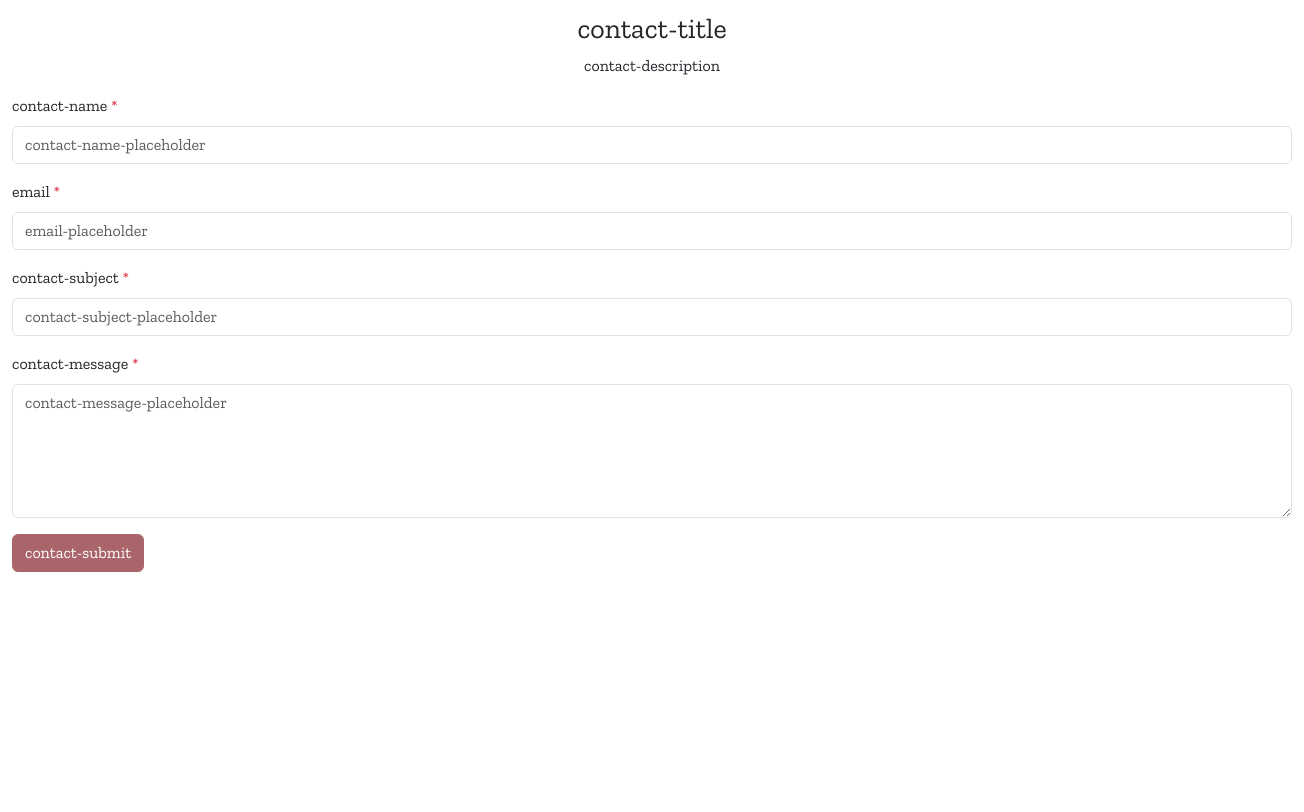
Test case: ContactForm › submits the form when the form is valid
This screenshot has width=1304, height=812.
# Fill the form
Type "John Doe" into the field labelled "contact-name *" at (652, 145), box [12, 126, 1292, 164]
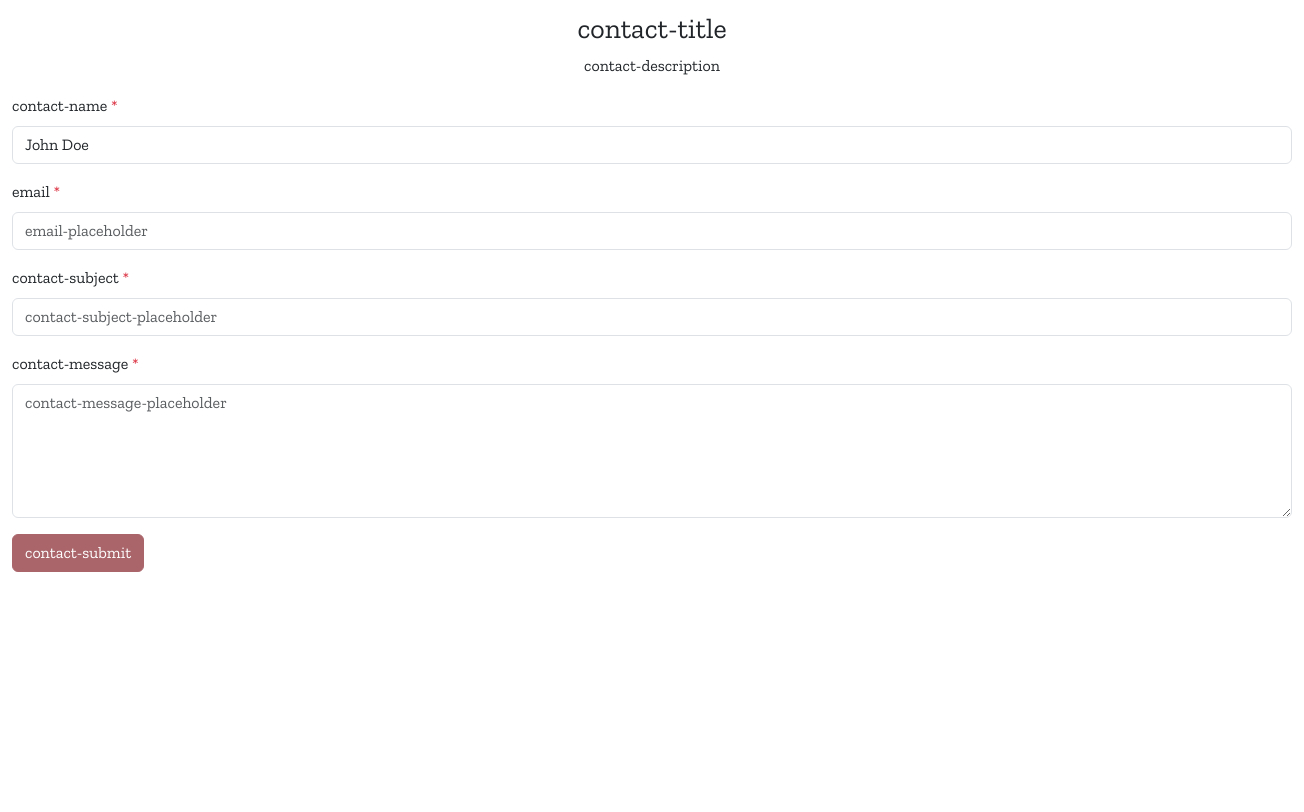
Type "text@example.com" into the field labelled "email *" at (652, 231), box [12, 212, 1292, 250]
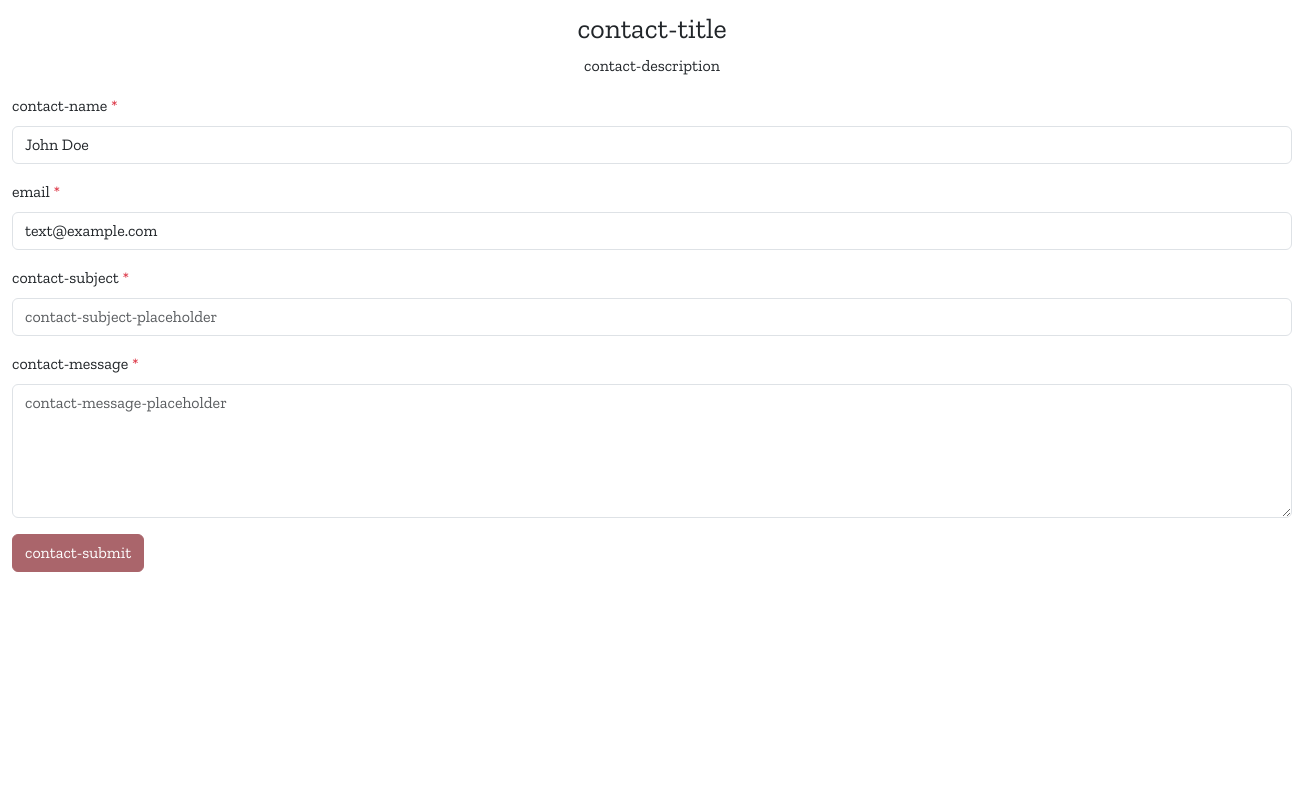
Type "Test Subject" into the field labelled "contact-subject *" at (652, 317), box [12, 298, 1292, 336]
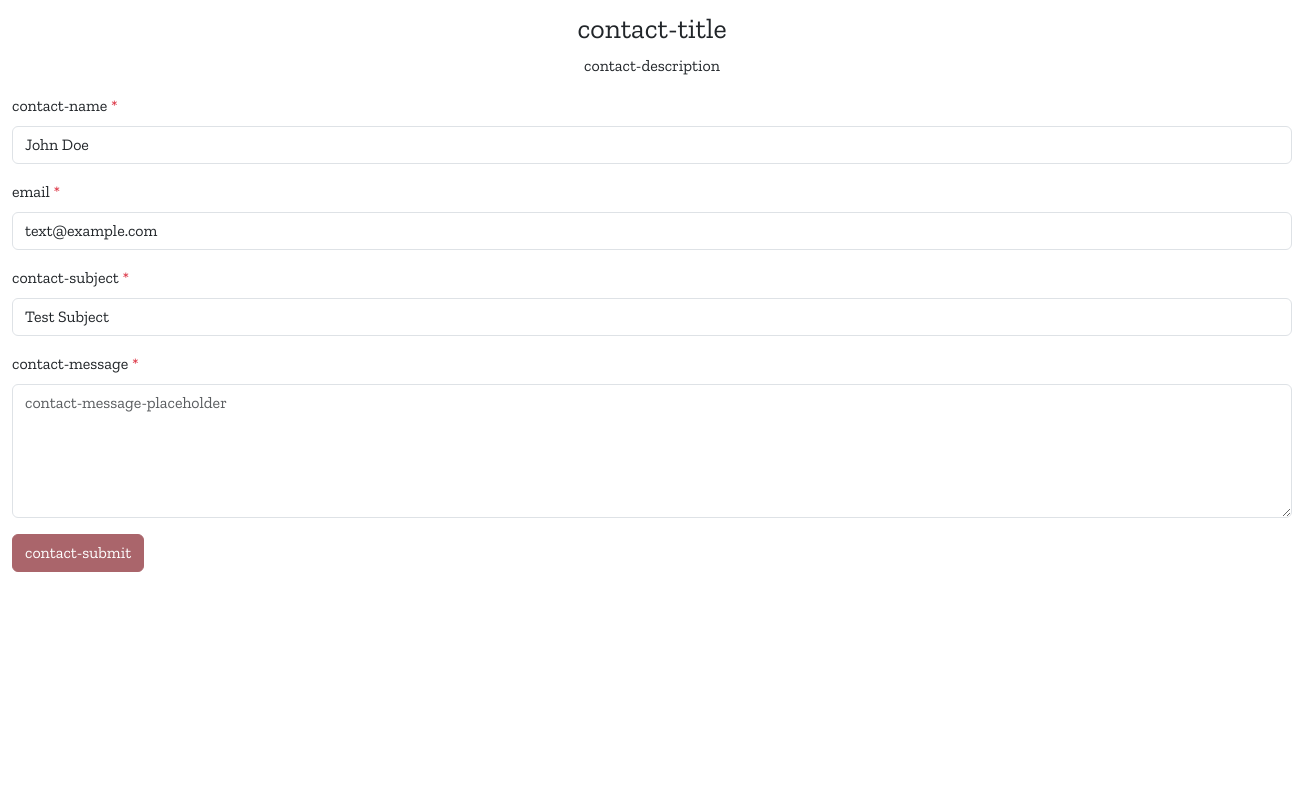
Type "Test Message" into the text box labelled "contact-message *" at (652, 451), box [12, 384, 1292, 518]
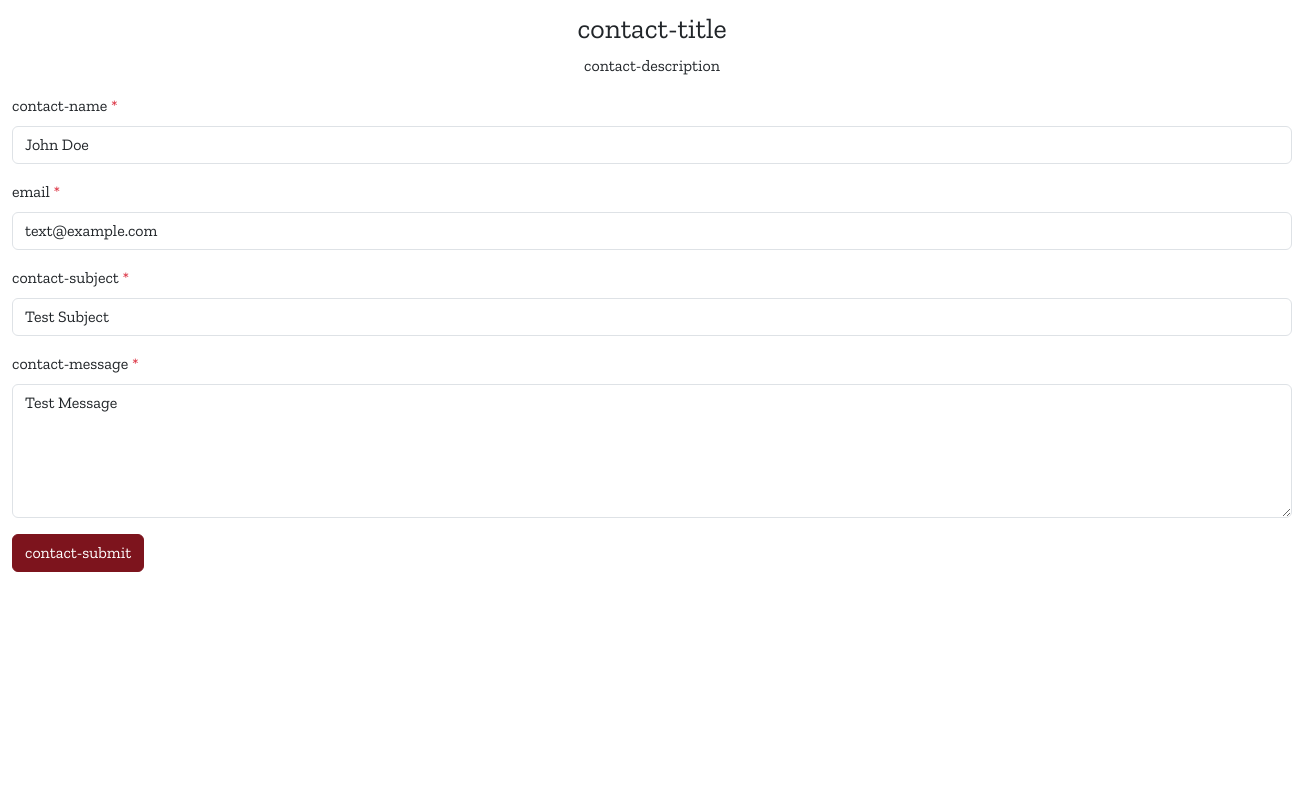
Submit the form from the button, box [12, 534, 144, 572]
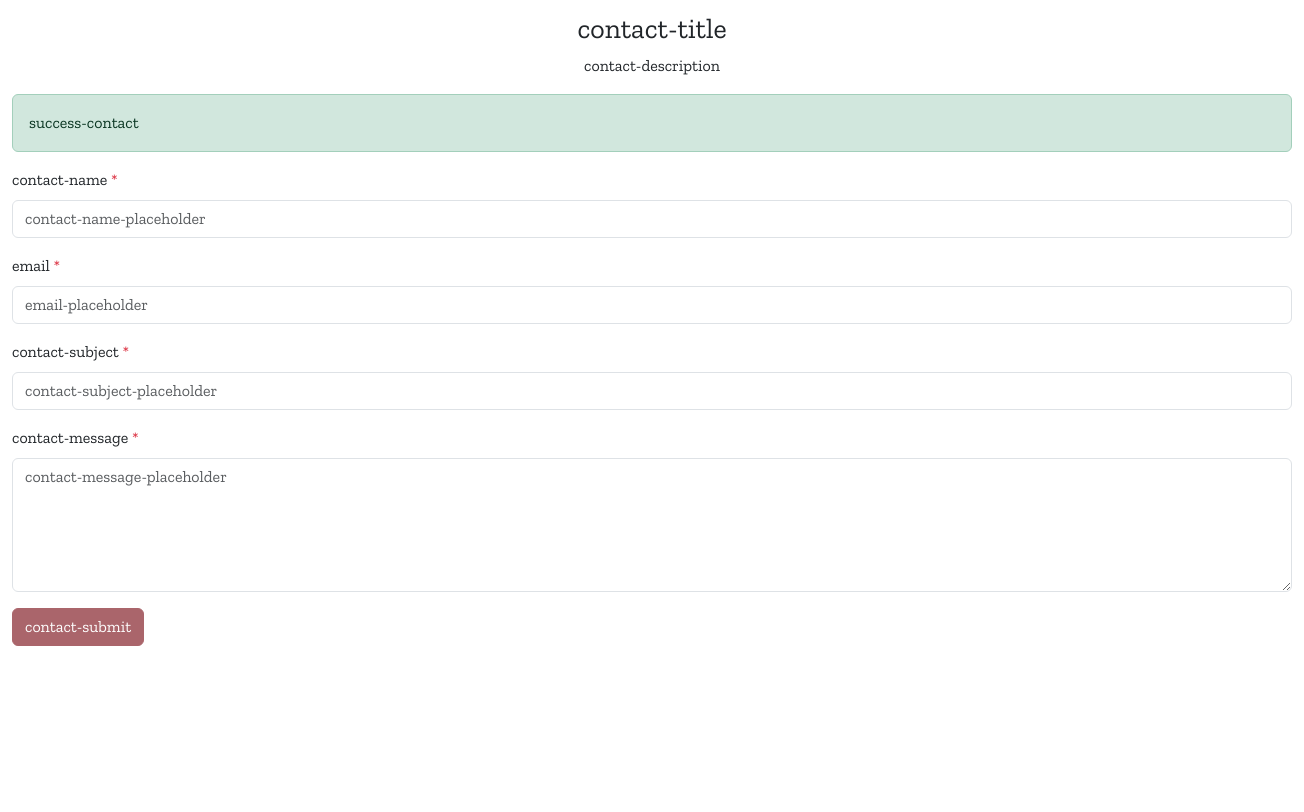
Expected: the text "success-contact" is shown, [12, 94, 1292, 152]
